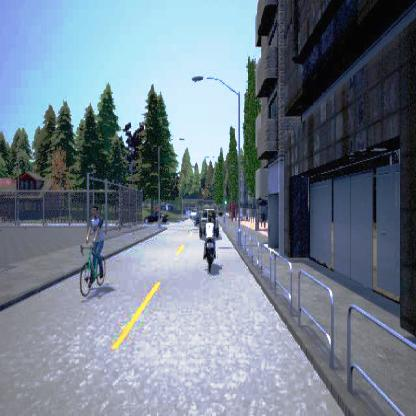bike: (80, 198, 107, 295)
motobike: (202, 216, 217, 270)
vehicle: (190, 206, 218, 237)
